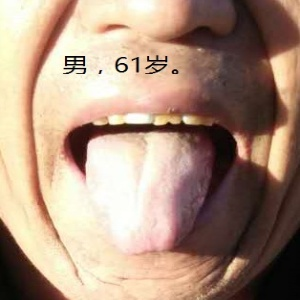st: (84, 143, 210, 256)
